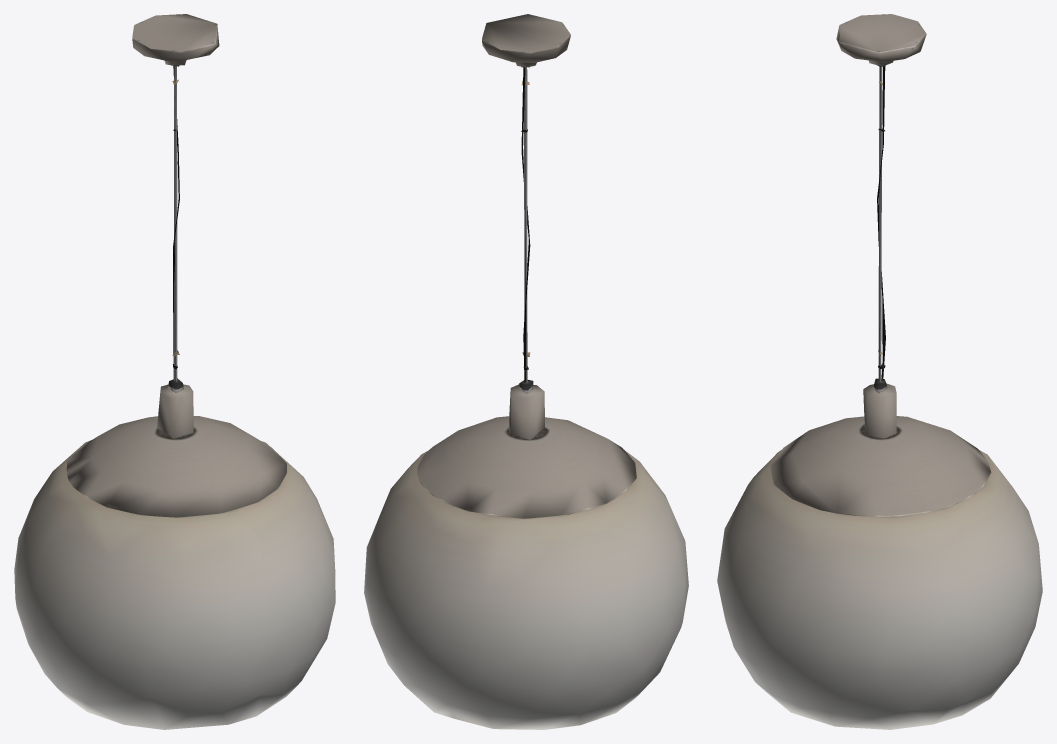
File: ModernCeilingLampLOD1.fbx
3 views of the same model, side by side, from view 1: azimuth 30°, elevation 25°; view 2: azimuth 150°, elevation 25°; view 3: azimuth 270°, elevation 25° (orthographic).
Parts seen in each view (by area): view 1: modern_ceiling_lamp_01; view 2: modern_ceiling_lamp_01; view 3: modern_ceiling_lamp_01.
Boxes of the visible parts, x1,y1,x2,y2 form: modern_ceiling_lamp_01: (14, 14, 335, 729); modern_ceiling_lamp_01: (364, 14, 688, 729); modern_ceiling_lamp_01: (717, 14, 1042, 729).
Size of the model in its own units: 43.24 by 95.19 by 43.33.
Materials: 3 (3 with a texture image).
